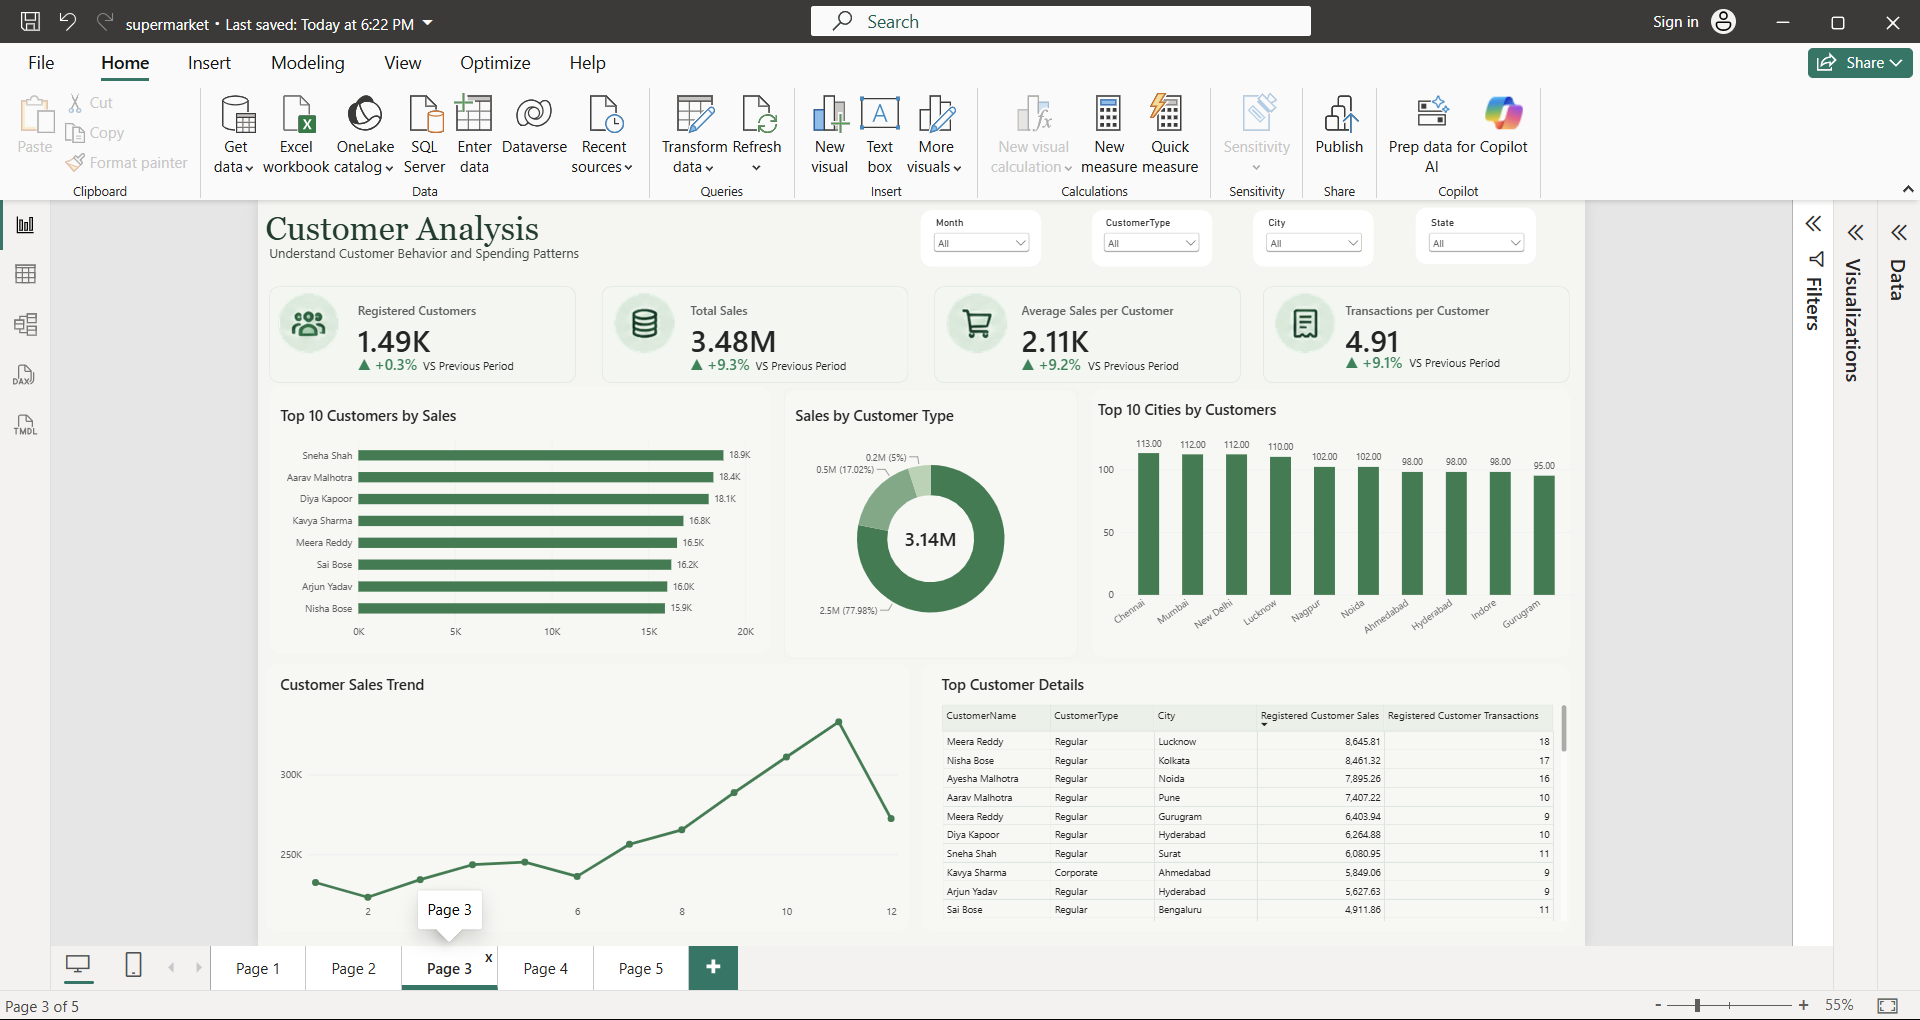

The dashboard page shown, as its layout file describes it:
{"tool":"powerbi","page":{"name":"Page 3","canvas":[1920,1080],"ordinal":2},"visuals":[{"type":"textbox","box":[10.3,14.4,786.3,63.8],"z":0},{"type":"textbox","box":[16,63.8,786.3,55.6],"z":1000},{"type":"shape","box":[959.2,14.4,175,82.3],"z":2000},{"type":"shape","box":[1206.2,14.4,175,82.3],"z":3000},{"type":"shape","box":[1440.8,14.4,175,82.3],"z":4000},{"type":"shape","box":[1675.5,10.3,175,82.3],"z":5000},{"type":"slicer","fields":{"Values":["DateTable.Month"]},"box":[973.6,22.6,148.2,82.3],"z":6000},{"type":"slicer","fields":{"Values":["vw_customers_clean.CustomerType"]},"box":[1220.6,22.6,148.2,82.3],"z":7000},{"type":"slicer","fields":{"Values":["vw_customers_clean.City"]},"box":[1455.2,22.6,148.2,82.3],"z":8000},{"type":"slicer","fields":{"Values":["vw_customers_clean.State"]},"box":[1689.9,22.6,148.2,82.3],"z":9000},{"type":"shape","box":[17,125.6,444,140],"z":10000},{"type":"shape","box":[498.1,125.6,444,140],"z":11000},{"type":"shape","box":[979,125.6,444,140],"z":12000},{"type":"shape","box":[1455.2,125.6,444,140],"z":13000},{"type":"image","box":[10.3,125.6,123.5,107],"z":14000},{"type":"image","box":[498.1,125.6,123,107],"z":15000},{"type":"image","box":[979.8,125.6,123,107],"z":16000},{"type":"image","box":[1455.2,125.6,123,107],"z":17000},{"type":"cardVisual","fields":{"Data":["All_Measures.Registered Customers"]},"box":[127.6,115.3,222.3,150.3],"z":18000},{"type":"cardVisual","fields":{"Data":["All_Measures.Customer Growth Label"]},"box":[127.6,216,168.8,45.3],"z":19000},{"type":"textbox","box":[238.8,228,481.6,32.9],"z":20000},{"type":"cardVisual","fields":{"Data":["All_Measures.Total Sales"]},"box":[609.3,115.3,222.3,150.3],"z":21000},{"type":"cardVisual","fields":{"Data":["All_Measures.Total Sales Growth Label"]},"box":[609.3,216.1,168.8,45.3],"z":22000},{"type":"textbox","box":[720.4,228,164.7,28.8],"z":23000},{"type":"cardVisual","title":"A","fields":{"Data":["All_Measures.Average Sales per Customer"]},"box":[1088.9,115.3,279.9,150.3],"z":24000},{"type":"cardVisual","fields":{"Data":["All_Measures.Avg Sales per Customer Growth Label"]},"box":[1088.9,216.1,168.8,45.3],"z":25000},{"type":"textbox","box":[1201,228,175,32.9],"z":26000},{"type":"cardVisual","title":"A","fields":{"Data":["All_Measures.Transactions per Customer"]},"box":[1558.2,115.3,279.9,150.3],"z":27000},{"type":"cardVisual","fields":{"Data":["All_Measures.Transactions per Customer Growth Label"]},"box":[1558.2,212,168.8,45.3],"z":28000},{"type":"textbox","box":[1667,224,244.9,28.8],"z":29000},{"type":"shape","box":[16.5,267.6,725,390],"z":30000},{"type":"barChart","title":"Top 10 Customers by Sales","fields":{"Category":["vw_customers_clean.CustomerName"],"Y":["All_Measures.Registered Customer Sales"]},"box":[16.5,282,724.5,372.6],"z":31000},{"type":"shape","box":[761.6,273.8,425,390],"z":32000},{"type":"donutChart","title":"Sales by Customer Type","fields":{"Category":["vw_customers_clean.CustomerType"],"Y":["All_Measures.Registered Customer Sales"]},"box":[761.6,282,424,372.6],"z":33000},{"type":"shape","box":[1206.2,273.8,693.7,389],"z":34000},{"type":"columnChart","title":"Top 10 Cities by Customers","fields":{"Category":["vw_customers_clean.City"],"Y":["All_Measures.Registered Customers"]},"box":[1200,273.8,720.4,389],"z":35000},{"type":"shape","box":[10.3,671,932.4,389],"z":36000},{"type":"lineChart","title":"Customer Sales Trend","fields":{"Y":["All_Measures.Registered Customer Sales"],"Category":["DateTable.Month Number"]},"box":[16.5,671,926.2,389],"z":37000},{"type":"shape","box":[959.2,671,940.7,389],"z":38000},{"type":"tableEx","title":"Top Customer Details","fields":{"Values":["vw_customers_clean.CustomerName","vw_customers_clean.CustomerType","vw_customers_clean.City","All_Measures.Registered Customer Sales","All_Measures.Registered Customer Transactions"]},"box":[973.6,671.4,937.4,389.1],"z":39000}]}

Visuals, with their boxes on the page's 1920x1080 design canvas (x1, y1, x2, y2). These are canvas units, not pixel positions in the 1920x1020 screenshot, which may show the page scaled, cropped or inside an application window:
textbox: x1=10 y1=14 x2=797 y2=78
textbox: x1=16 y1=64 x2=802 y2=119
shape: x1=959 y1=14 x2=1134 y2=97
shape: x1=1206 y1=14 x2=1381 y2=97
shape: x1=1441 y1=14 x2=1616 y2=97
shape: x1=1676 y1=10 x2=1850 y2=93
slicer - DateTable.Month: x1=974 y1=23 x2=1122 y2=105
slicer - vw_customers_clean.CustomerType: x1=1221 y1=23 x2=1369 y2=105
slicer - vw_customers_clean.City: x1=1455 y1=23 x2=1603 y2=105
slicer - vw_customers_clean.State: x1=1690 y1=23 x2=1838 y2=105
shape: x1=17 y1=126 x2=461 y2=266
shape: x1=498 y1=126 x2=942 y2=266
shape: x1=979 y1=126 x2=1423 y2=266
shape: x1=1455 y1=126 x2=1899 y2=266
image: x1=10 y1=126 x2=134 y2=233
image: x1=498 y1=126 x2=621 y2=233
image: x1=980 y1=126 x2=1103 y2=233
image: x1=1455 y1=126 x2=1578 y2=233
cardVisual - All_Measures.Registered Customers: x1=128 y1=115 x2=350 y2=266
cardVisual - All_Measures.Customer Growth Label: x1=128 y1=216 x2=296 y2=261
textbox: x1=239 y1=228 x2=720 y2=261
cardVisual - All_Measures.Total Sales: x1=609 y1=115 x2=832 y2=266
cardVisual - All_Measures.Total Sales Growth Label: x1=609 y1=216 x2=778 y2=261
textbox: x1=720 y1=228 x2=885 y2=257
"A" cardVisual: x1=1089 y1=115 x2=1369 y2=266
cardVisual - All_Measures.Avg Sales per Customer Growth Label: x1=1089 y1=216 x2=1258 y2=261
textbox: x1=1201 y1=228 x2=1376 y2=261
"A" cardVisual: x1=1558 y1=115 x2=1838 y2=266
cardVisual - All_Measures.Transactions per Customer Growth Label: x1=1558 y1=212 x2=1727 y2=257
textbox: x1=1667 y1=224 x2=1912 y2=253
shape: x1=16 y1=268 x2=742 y2=658
"Top 10 Customers by Sales" barChart: x1=16 y1=282 x2=741 y2=655
shape: x1=762 y1=274 x2=1187 y2=664
"Sales by Customer Type" donutChart: x1=762 y1=282 x2=1186 y2=655
shape: x1=1206 y1=274 x2=1900 y2=663
"Top 10 Cities by Customers" columnChart: x1=1200 y1=274 x2=1920 y2=663
shape: x1=10 y1=671 x2=943 y2=1060
"Customer Sales Trend" lineChart: x1=16 y1=671 x2=943 y2=1060
shape: x1=959 y1=671 x2=1900 y2=1060
"Top Customer Details" tableEx: x1=974 y1=671 x2=1911 y2=1060
